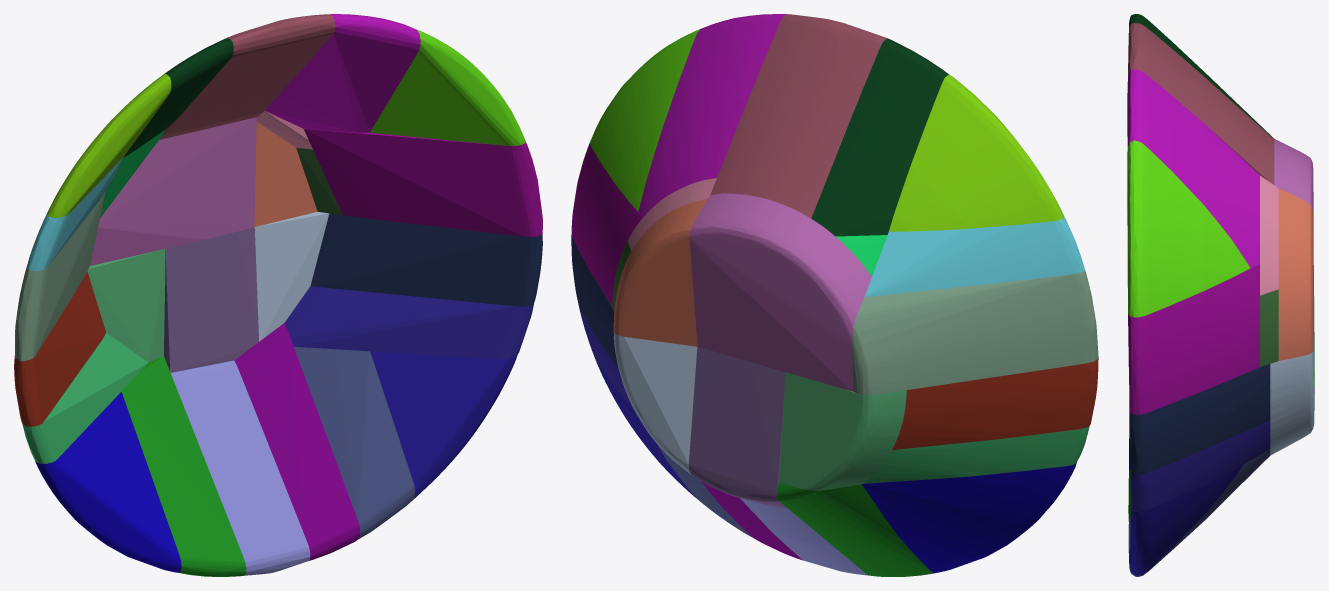
Rendered from coacd_collision.obj.
3 views of the same model, side by side, from view 1: azimuth 30°, elevation 25°; view 2: azimuth 150°, elevation 25°; view 3: azimuth 270°, elevation 25° (orthographic). The views are drawn at different scales.
Parts seen in each view (by area): view 1: geometry_14, geometry_21, geometry_7, geometry_12, geometry_18, geometry_11, geometry_5, geometry_8, geometry_16, geometry_1, geometry_20, geometry_22 (+14 smaller); view 2: geometry_7, geometry_0, geometry_13, geometry_4, geometry_25, geometry_22, geometry_5, geometry_1, geometry_15, geometry_2, geometry_3, geometry_9 (+13 smaller); view 3: geometry_14, geometry_17, geometry_22, geometry_21, geometry_13, geometry_9, geometry_18, geometry_20, geometry_6, geometry_24, geometry_7, geometry_19 (+2 smaller).
Boxes of the visible parts, x1,y1,x2,y2 form: geometry_14: [304, 129, 542, 236]; geometry_21: [310, 213, 542, 306]; geometry_7: [90, 117, 256, 265]; geometry_12: [171, 360, 310, 575]; geometry_18: [284, 286, 533, 359]; geometry_11: [234, 323, 360, 560]; geometry_5: [35, 392, 181, 572]; geometry_8: [121, 356, 246, 576]; geometry_16: [294, 346, 414, 538]; geometry_1: [163, 227, 258, 372]; geometry_20: [370, 351, 516, 498]; geometry_22: [265, 14, 420, 132]; geometry_7: [689, 193, 871, 391]; geometry_0: [852, 270, 1098, 395]; geometry_13: [710, 14, 887, 218]; geometry_4: [889, 75, 1063, 231]; geometry_25: [811, 38, 949, 236]; geometry_22: [638, 14, 786, 217]; geometry_5: [861, 462, 1076, 573]; geometry_1: [688, 346, 786, 508]; geometry_15: [892, 358, 1098, 449]; geometry_2: [864, 216, 1085, 296]; geometry_3: [779, 372, 906, 490]; geometry_9: [613, 199, 707, 346]; geometry_14: [1128, 264, 1259, 414]; geometry_17: [1127, 140, 1250, 317]; geometry_22: [1127, 69, 1259, 267]; geometry_21: [1129, 364, 1270, 474]; geometry_13: [1128, 23, 1274, 184]; geometry_9: [1278, 188, 1313, 360]; geometry_18: [1130, 420, 1270, 512]; geometry_20: [1130, 464, 1243, 575]; geometry_6: [1270, 351, 1314, 455]; geometry_24: [1260, 175, 1278, 295]; geometry_7: [1274, 139, 1313, 210]; geometry_19: [1260, 289, 1278, 366].
Size of the model in its own units: 178 by 177 by 59.13.
